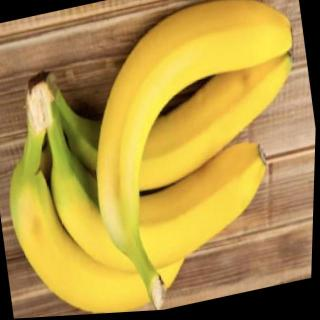banana: (71, 0, 320, 248), (43, 117, 283, 293), (60, 43, 310, 211), (1, 134, 206, 320)
